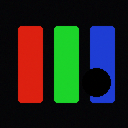2 circle: (82, 68, 110, 96)
